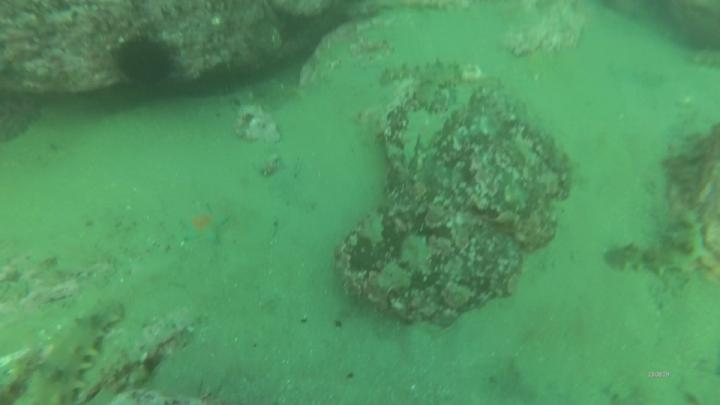echinus: (112, 31, 181, 89)
holothurian: (25, 297, 127, 405), (608, 207, 707, 279), (417, 61, 463, 113), (380, 62, 449, 86)
starfish: (177, 201, 234, 249)
